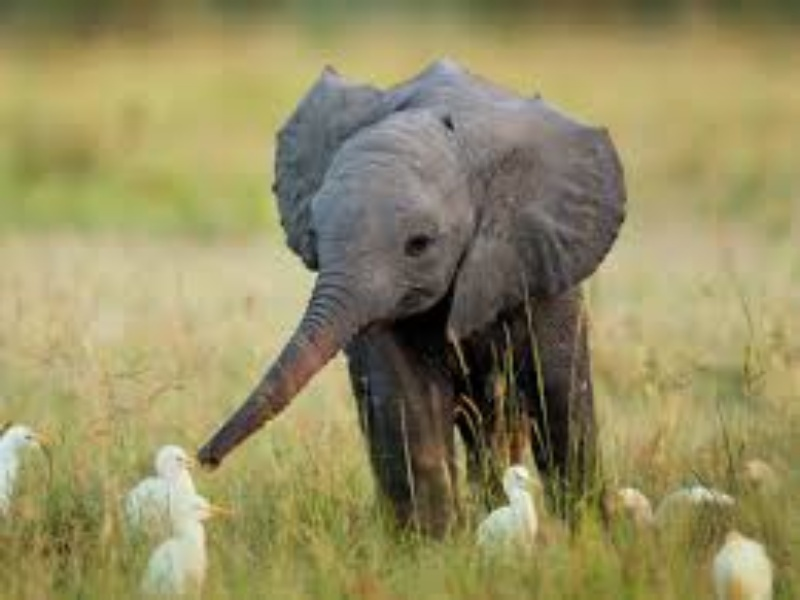elephant: (165, 58, 677, 561)
